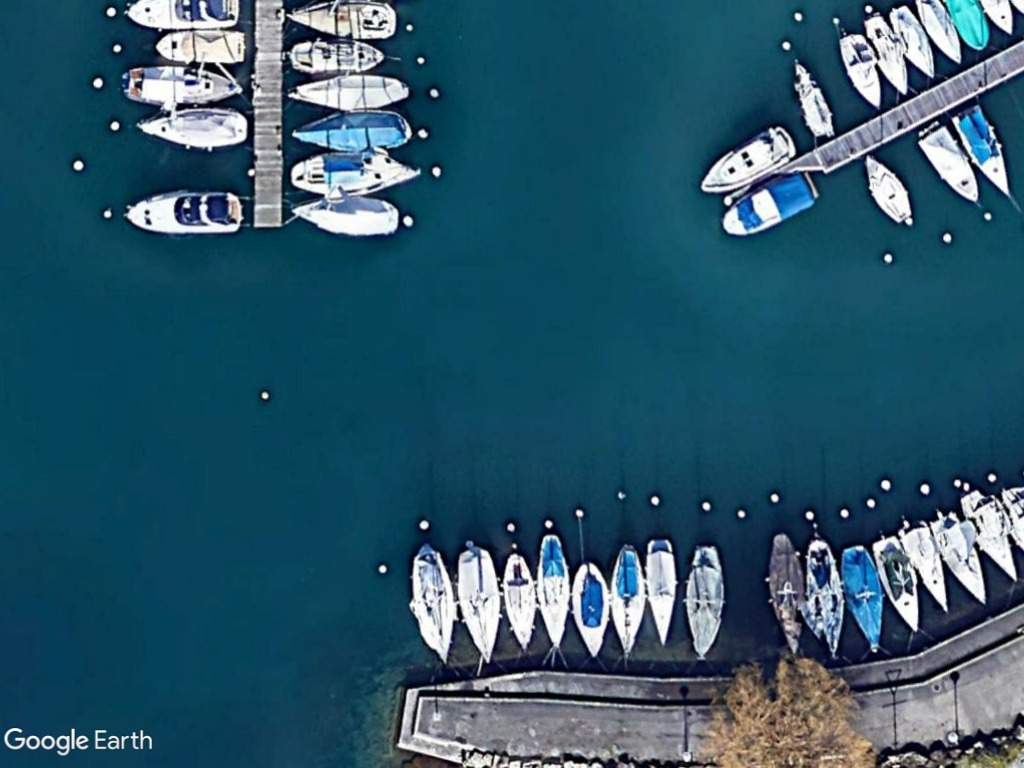boat: (690, 120, 799, 198), (833, 537, 899, 656), (719, 165, 820, 241), (406, 540, 465, 669), (449, 536, 506, 668), (799, 528, 852, 665), (954, 486, 1024, 589), (530, 524, 583, 660), (928, 504, 994, 612), (117, 188, 253, 239), (897, 517, 963, 620), (912, 120, 984, 213), (287, 152, 426, 199), (945, 97, 1009, 197), (288, 191, 406, 244), (760, 527, 807, 657), (287, 69, 417, 115), (282, 111, 414, 156), (604, 537, 648, 670), (873, 531, 926, 639), (126, 108, 252, 153), (680, 540, 725, 663), (858, 7, 915, 102), (120, 62, 246, 104), (643, 527, 684, 652), (497, 546, 543, 654), (863, 149, 921, 233), (281, 1, 403, 40), (831, 23, 884, 111), (290, 28, 388, 75), (570, 550, 610, 662), (883, 2, 938, 81), (143, 28, 250, 68)
